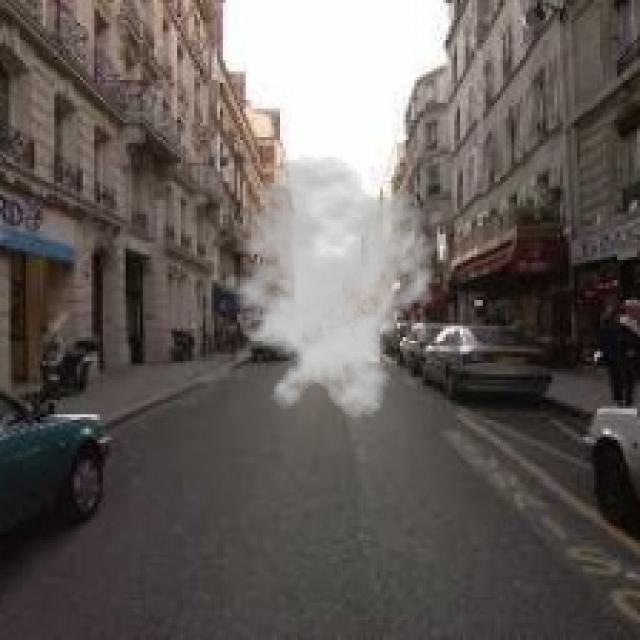Smoke: (208, 154, 448, 420)
